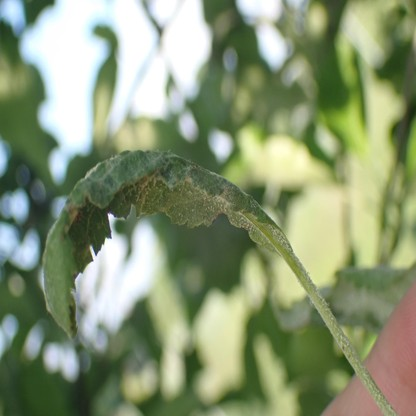powder: (43, 152, 288, 341)
